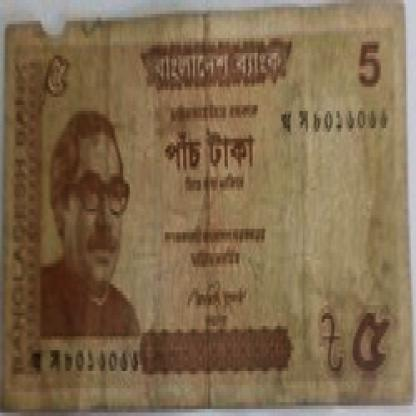Five Taka: (156, 121, 263, 177), (35, 35, 85, 135), (349, 295, 393, 388), (351, 28, 384, 94)
